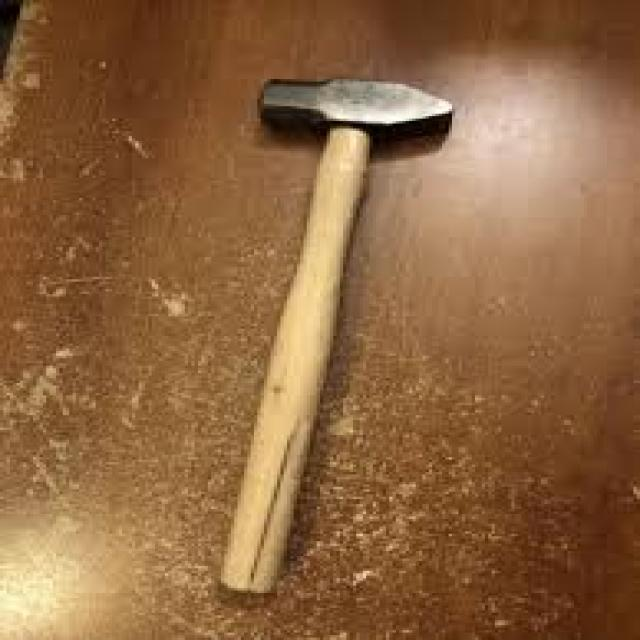hammer: (214, 70, 466, 606)
